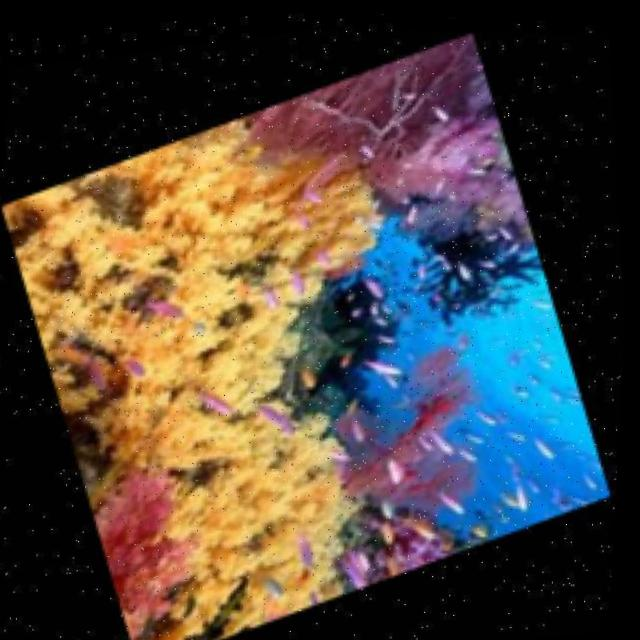Healthy Coral: (33, 149, 368, 403), (139, 368, 382, 601), (310, 327, 479, 550), (316, 40, 511, 233), (106, 428, 216, 630)
